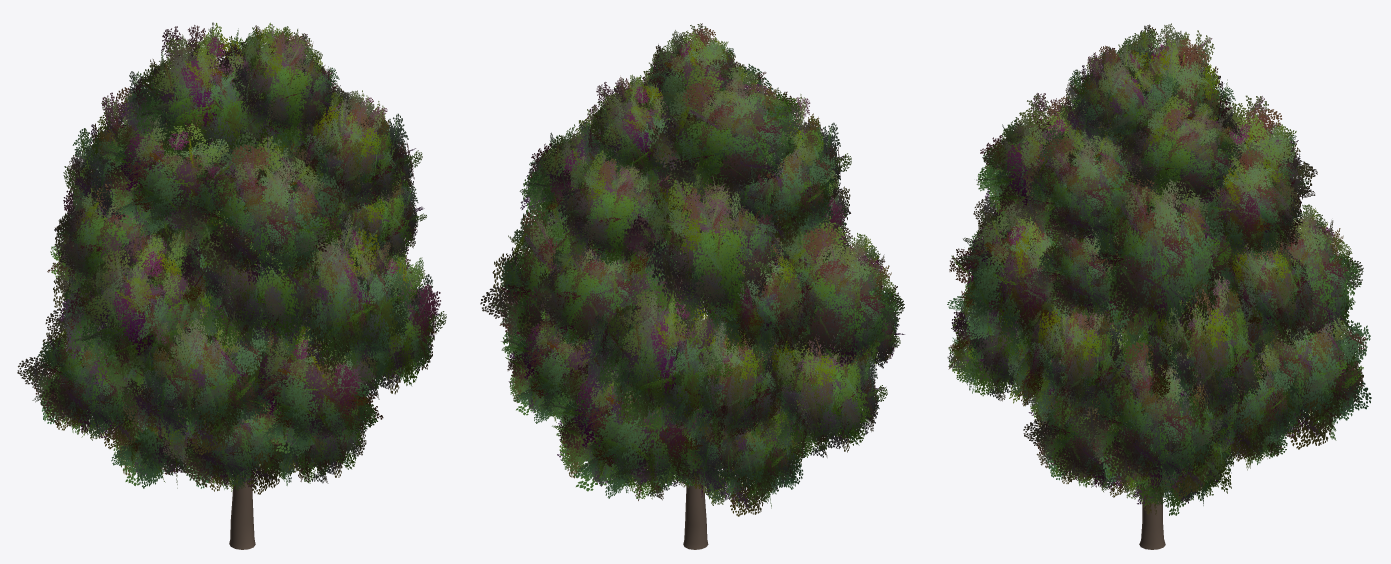
Rendered from tree_medium_upright_asymmetric_canopy.glb.
3 renders of one model, left to right at view 1: azimuth 30°, elevation 25°; view 2: azimuth 150°, elevation 25°; view 3: azimuth 270°, elevation 25°, orthographic. The views are drawn at different scales.
Parts seen in each view (by area): view 1: Camphor_Foliage_OldCrownGroup_26, Camphor_Foliage_OldCrownGroup_18, Camphor_Foliage_OldCrownGroup_11, Camphor_Foliage_OldCrownGroup_20, Camphor_Foliage_OldCrownGroup_29, Camphor_Foliage_OldCrownGroup_12, Camphor_Foliage_OldCrownGroup_27, Camphor_Foliage_OldCrownGroup_25, Camphor_Foliage_OldCrownGroup_19, Camphor_Foliage_OldCrownGroup_30, Camphor_Foliage_OldCrownGroup_10, Camphor_Foliage_OldCrownGroup_04 (+11 smaller); view 2: Camphor_Foliage_OldCrownGroup_24, Camphor_Foliage_OldCrownGroup_29, Camphor_Foliage_OldCrownGroup_16, Camphor_Foliage_OldCrownGroup_18, Camphor_Foliage_OldCrownGroup_08, Camphor_Foliage_OldCrownGroup_10, Camphor_Foliage_OldCrownGroup_23, Camphor_Foliage_OldCrownGroup_09, Camphor_Foliage_OldCrownGroup_15, Camphor_Foliage_OldCrownGroup_17, Camphor_Foliage_OldCrownGroup_28, Camphor_Foliage_OldCrownGroup_25 (+10 smaller); view 3: Camphor_Foliage_OldCrownGroup_22, Camphor_Foliage_OldCrownGroup_06, Camphor_Foliage_OldCrownGroup_14, Camphor_Foliage_OldCrownGroup_13, Camphor_Foliage_OldCrownGroup_20, Camphor_Foliage_OldCrownGroup_27, Camphor_Foliage_OldCrownGroup_28, Camphor_Foliage_OldCrownGroup_08, Camphor_Foliage_OldCrownGroup_30, Camphor_Foliage_OldCrownGroup_23, Camphor_Foliage_OldCrownGroup_15, Camphor_Foliage_OldCrownGroup_16 (+11 smaller).
Part boxes in pixels (x1,y1,x2,y2): Camphor_Foliage_OldCrownGroup_26: (169,132,342,291); Camphor_Foliage_OldCrownGroup_18: (59,227,212,398); Camphor_Foliage_OldCrownGroup_11: (117,297,270,455); Camphor_Foliage_OldCrownGroup_20: (260,214,416,377); Camphor_Foliage_OldCrownGroup_29: (119,22,274,177); Camphor_Foliage_OldCrownGroup_12: (245,316,383,456); Camphor_Foliage_OldCrownGroup_27: (275,90,411,221); Camphor_Foliage_OldCrownGroup_25: (101,107,233,242); Camphor_Foliage_OldCrownGroup_19: (174,205,319,350); Camphor_Foliage_OldCrownGroup_30: (215,22,333,143); Camphor_Foliage_OldCrownGroup_10: (17,317,145,448); Camphor_Foliage_OldCrownGroup_04: (163,410,300,494); Camphor_Foliage_OldCrownGroup_24: (623,173,783,329); Camphor_Foliage_OldCrownGroup_29: (650,59,801,201); Camphor_Foliage_OldCrownGroup_16: (580,273,732,440); Camphor_Foliage_OldCrownGroup_18: (761,216,904,370); Camphor_Foliage_OldCrownGroup_08: (547,354,702,499); Camphor_Foliage_OldCrownGroup_10: (754,334,887,458); Camphor_Foliage_OldCrownGroup_23: (545,150,668,267); Camphor_Foliage_OldCrownGroup_09: (655,322,783,450); Camphor_Foliage_OldCrownGroup_15: (536,241,647,351); Camphor_Foliage_OldCrownGroup_17: (702,237,826,361); Camphor_Foliage_OldCrownGroup_28: (576,72,678,192); Camphor_Foliage_OldCrownGroup_25: (712,126,835,247); Camphor_Foliage_OldCrownGroup_22: (1077,173,1233,340); Camphor_Foliage_OldCrownGroup_06: (1071,329,1234,499); Camphor_Foliage_OldCrownGroup_14: (1121,273,1273,434); Camphor_Foliage_OldCrownGroup_13: (1004,299,1124,427); Camphor_Foliage_OldCrownGroup_20: (947,202,1062,352); Camphor_Foliage_OldCrownGroup_27: (1014,125,1140,247); Camphor_Foliage_OldCrownGroup_28: (1118,91,1241,208); Camphor_Foliage_OldCrownGroup_08: (1259,304,1371,449); Camphor_Foliage_OldCrownGroup_30: (1059,39,1181,155); Camphor_Foliage_OldCrownGroup_23: (1179,142,1315,267); Camphor_Foliage_OldCrownGroup_15: (1212,241,1319,351); Camphor_Foliage_OldCrownGroup_16: (1222,204,1363,355).
Size of the model in its own units: 12.49 by 15.74 by 12.17.
Materials: 2 (1 with a texture image).
